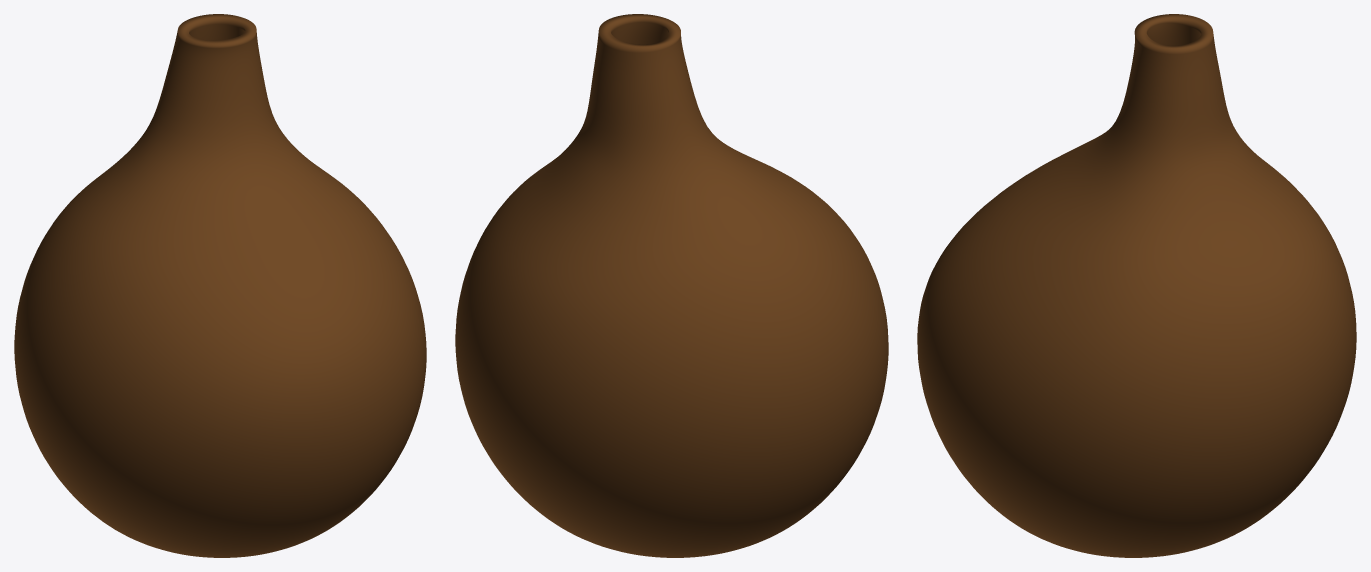
File: cabaca.fbx
3 views of the same model, side by side, from view 1: azimuth 30°, elevation 25°; view 2: azimuth 150°, elevation 25°; view 3: azimuth 270°, elevation 25° (orthographic). The views are drawn at different scales.
Parts seen in each view (by area): view 1: Sphere.004; view 2: Sphere.004; view 3: Sphere.004.
Part boxes in pixels (x1,y1,x2,y2): Sphere.004: (14, 14, 426, 557); Sphere.004: (455, 14, 888, 557); Sphere.004: (917, 14, 1356, 557).
Bounding box in the file's own units: 109 × 144 × 111.
